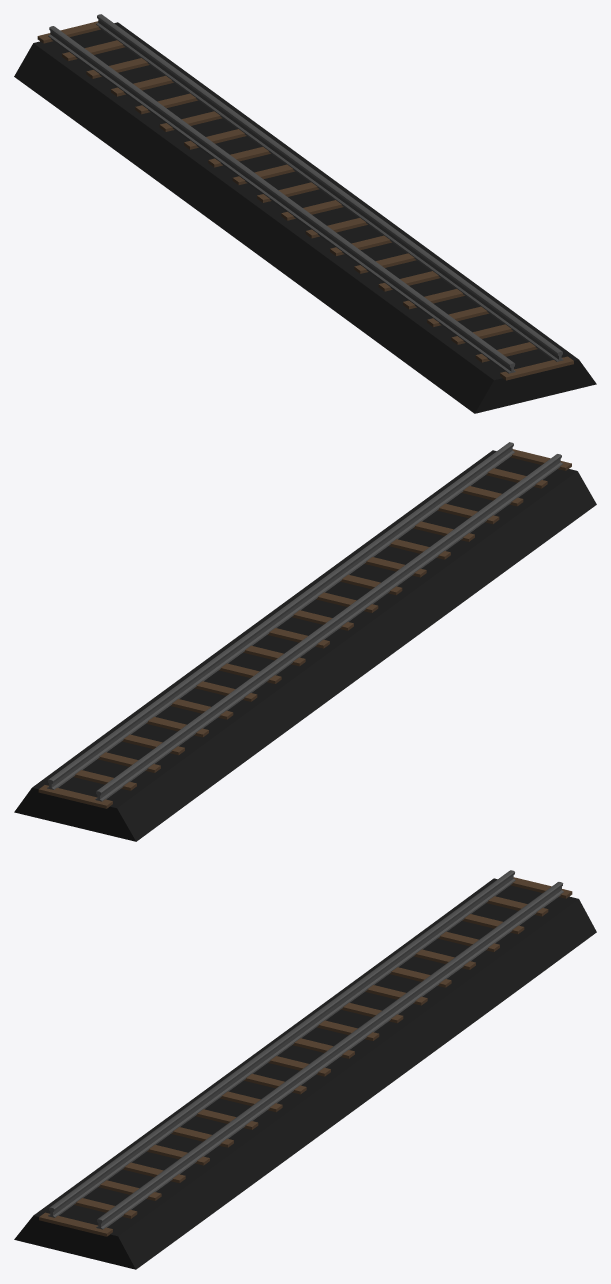
The model's file is 02_rail_straight.obj.
3 views of the same model, one above another, from view 1: azimuth 30°, elevation 25°; view 2: azimuth 150°, elevation 25°; view 3: azimuth 330°, elevation 25° (orthographic).
Visible parts, largest first — view 1: Mesh_02_Straight_Berm, Mesh_02_Straight_Track, Mesh_02_Straight_Tie; view 2: Mesh_02_Straight_Berm, Mesh_02_Straight_Track, Mesh_02_Straight_Tie; view 3: Mesh_02_Straight_Berm, Mesh_02_Straight_Track, Mesh_02_Straight_Tie.
Part boxes in pixels (x1=…): Mesh_02_Straight_Berm: x1=14, y1=22, x2=596, y2=413; Mesh_02_Straight_Track: x1=48, y1=14, x2=563, y2=373; Mesh_02_Straight_Tie: x1=37, y1=21, x2=573, y2=380; Mesh_02_Straight_Berm: x1=14, y1=450, x2=596, y2=841; Mesh_02_Straight_Track: x1=47, y1=442, x2=562, y2=801; Mesh_02_Straight_Tie: x1=38, y1=449, x2=571, y2=808; Mesh_02_Straight_Berm: x1=14, y1=878, x2=596, y2=1269; Mesh_02_Straight_Track: x1=48, y1=870, x2=563, y2=1229; Mesh_02_Straight_Tie: x1=39, y1=877, x2=572, y2=1236.
Bounding box in the file's own units: 0.1535 × 0.0495 × 1.01.
